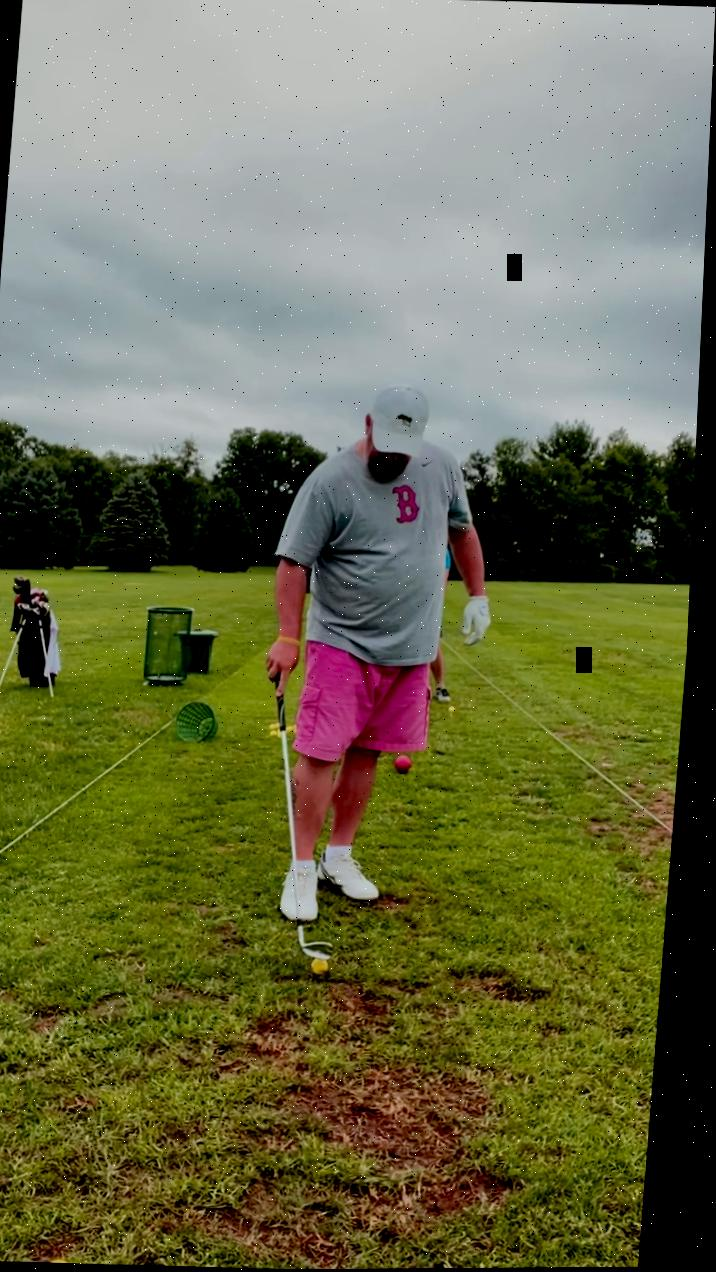ClubHead: (301, 922, 349, 980)
